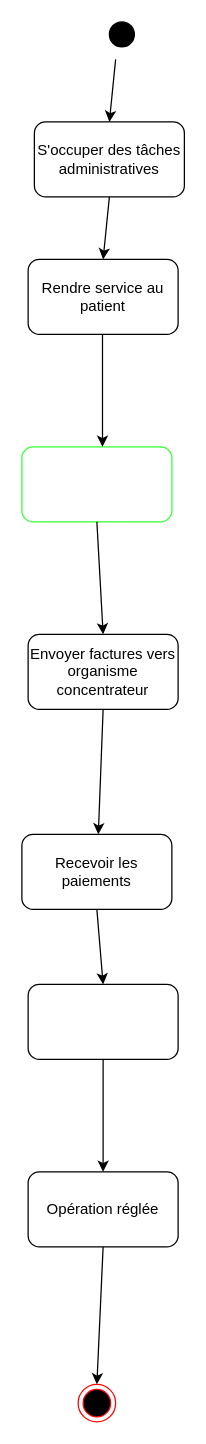
The diagram is 206 pixels wide and 1444 high, and some of its shapes have lost their labels. Each missing label, with the box of its shape:
Impression facture: (21, 446, 172, 522)
vérifier rapprochement bancaire: (27, 983, 178, 1059)
